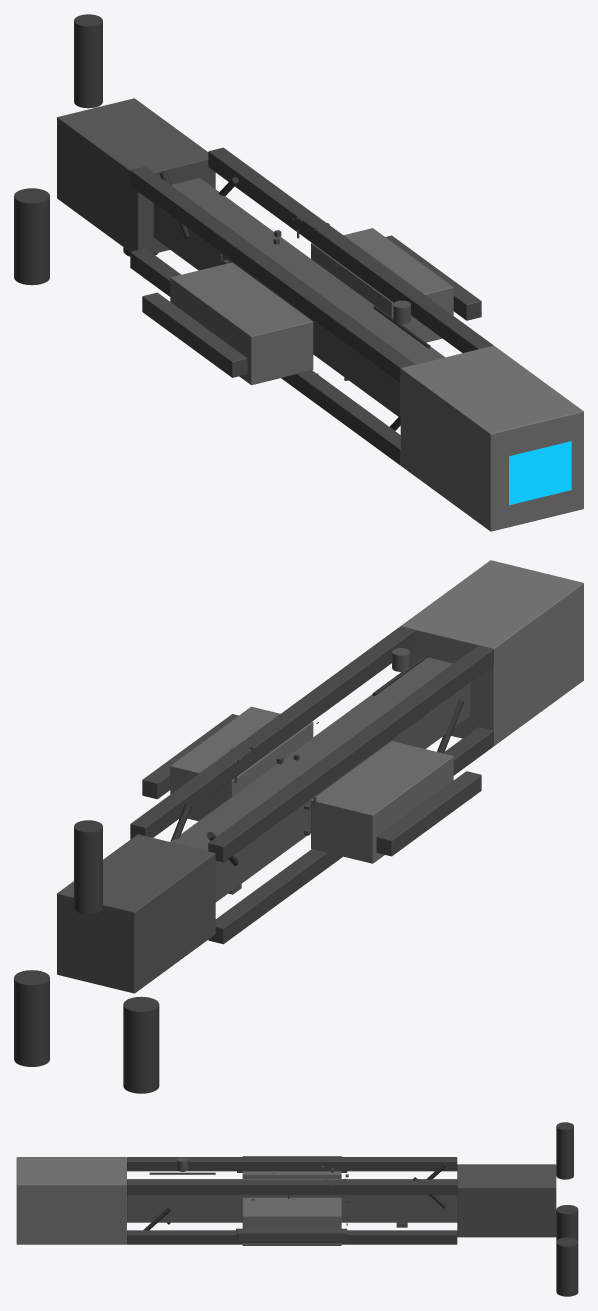
Rendered from station.glb.
The picture shows the model from 3 angles, top to bottom: view 1: azimuth 30°, elevation 25°; view 2: azimuth 150°, elevation 25°; view 3: azimuth 270°, elevation 25°; orthographic projection. The views are drawn at different scales.
Visible parts, largest first — view 1: forward_block, engine_block, spine_core, cargo_lt, truss_lt_top, truss_rt_top, cargo_rt, truss_lt_bot, thruster_lt, forward_hangar_glow, pylon_lt, thruster_cn (+1 smaller); view 2: forward_block, engine_block, spine_core, cargo_lt, truss_lt_top, truss_rt_top, cargo_rt, truss_lt_bot, thruster_lt, thruster_rt, pylon_lt, thruster_cn (+1 smaller); view 3: forward_block, spine_core, engine_block, truss_rt_top, truss_lt_top, cargo_rt, truss_rt_bot, pylon_rt, thruster_rt, thruster_cn, cargo_lt, thruster_lt.
Boxes of the visible parts, x1=… form: forward_block: x1=220, y1=216, x2=583, y2=531; engine_block: x1=57, y1=98, x2=215, y2=253; spine_core: x1=153, y1=178, x2=444, y2=416; cargo_lt: x1=170, y1=262, x2=313, y2=384; truss_lt_top: x1=130, y1=166, x2=415, y2=383; truss_rt_top: x1=208, y1=147, x2=493, y2=352; cargo_rt: x1=311, y1=228, x2=453, y2=342; truss_lt_bot: x1=130, y1=248, x2=400, y2=465; thruster_lt: x1=14, y1=188, x2=49, y2=285; forward_hangar_glow: x1=509, y1=441, x2=571, y2=505; pylon_lt: x1=142, y1=292, x2=247, y2=377; thruster_cn: x1=74, y1=14, x2=102, y2=108; forward_block: x1=230, y1=560, x2=583, y2=835; engine_block: x1=57, y1=834, x2=215, y2=993; spine_core: x1=171, y1=657, x2=470, y2=902; cargo_lt: x1=311, y1=741, x2=453, y2=863; truss_lt_top: x1=208, y1=645, x2=493, y2=862; truss_rt_top: x1=130, y1=626, x2=415, y2=839; cargo_rt: x1=170, y1=706, x2=313, y2=821; truss_lt_bot: x1=208, y1=727, x2=493, y2=944; thruster_lt: x1=123, y1=996, x2=159, y2=1093; thruster_rt: x1=14, y1=970, x2=49, y2=1066; pylon_lt: x1=376, y1=771, x2=481, y2=856; thruster_cn: x1=74, y1=820, x2=102, y2=913; forward_block: x1=16, y1=1157, x2=348, y2=1244; spine_core: x1=127, y1=1179, x2=457, y2=1222; engine_block: x1=457, y1=1164, x2=556, y2=1237; truss_rt_top: x1=127, y1=1180, x2=457, y2=1194; truss_lt_top: x1=127, y1=1157, x2=457, y2=1171; cargo_rt: x1=242, y1=1197, x2=341, y2=1245; truss_rt_bot: x1=127, y1=1230, x2=457, y2=1244; pylon_rt: x1=237, y1=1228, x2=347, y2=1242; thruster_rt: x1=556, y1=1237, x2=578, y2=1296; thruster_cn: x1=556, y1=1122, x2=573, y2=1179; cargo_lt: x1=242, y1=1156, x2=341, y2=1178; thruster_lt: x1=556, y1=1205, x2=578, y2=1241.
Size of the model in its own units: 32 by 30 by 104.
